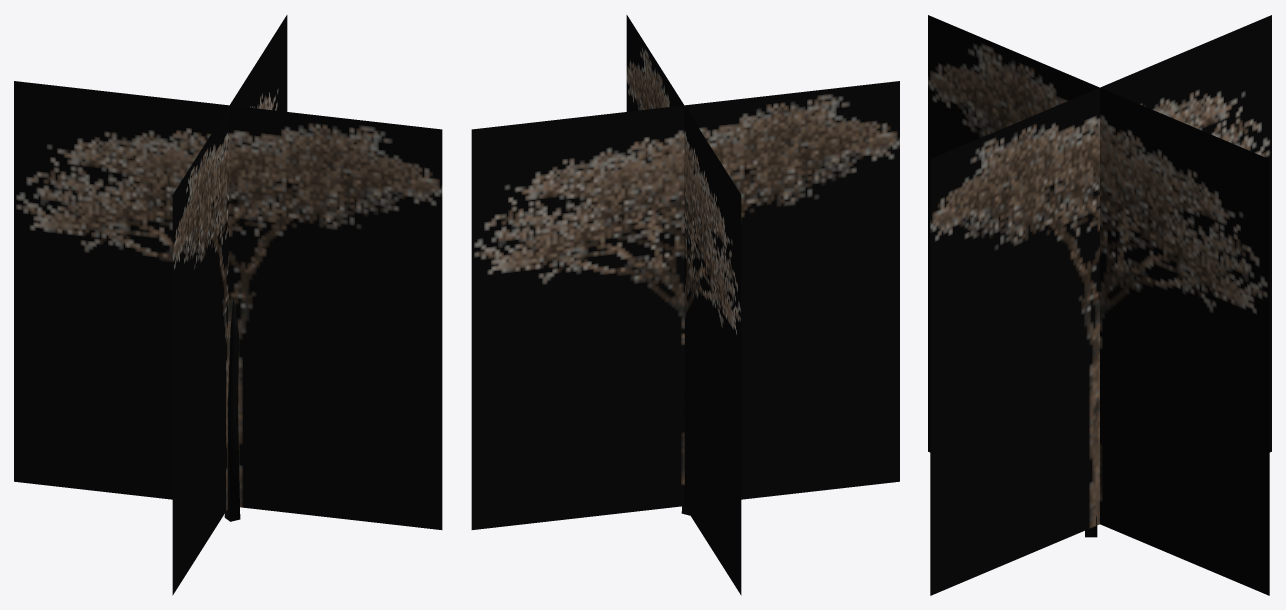
Rendered from tree047.glb.
3 views of the same model, side by side, from view 1: azimuth 30°, elevation 25°; view 2: azimuth 150°, elevation 25°; view 3: azimuth 270°, elevation 25° (orthographic). The views are drawn at different scales.
Parts seen in each view (by area): view 1: tree047, tree047_trunk; view 2: tree047; view 3: tree047.
Boxes of the visible parts, x1=… form: tree047: x1=14, y1=15, x2=442, y2=595; tree047_trunk: x1=224, y1=298, x2=240, y2=521; tree047: x1=471, y1=15, x2=899, y2=595; tree047: x1=928, y1=15, x2=1271, y2=595.
Bounding box in the file's own units: 2.78 × 3.99 × 2.78.
1 material, 1 textured.
